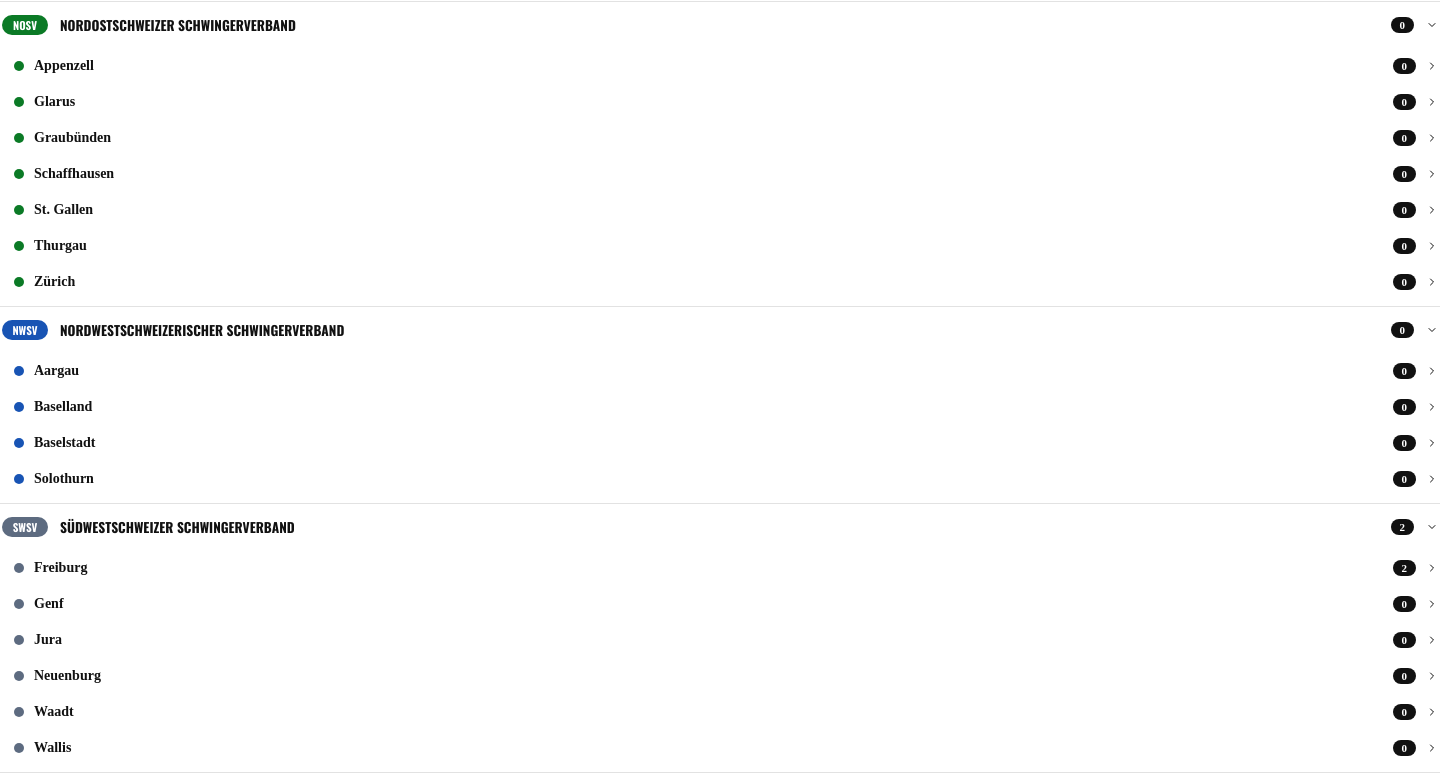
it: AssociationGroups › closes a Teilverband on click
(page scrolled)
Click the button with test id "group-swsv".
click(25, 527)  # box [0, 504, 1439, 550]
(page scrolled)
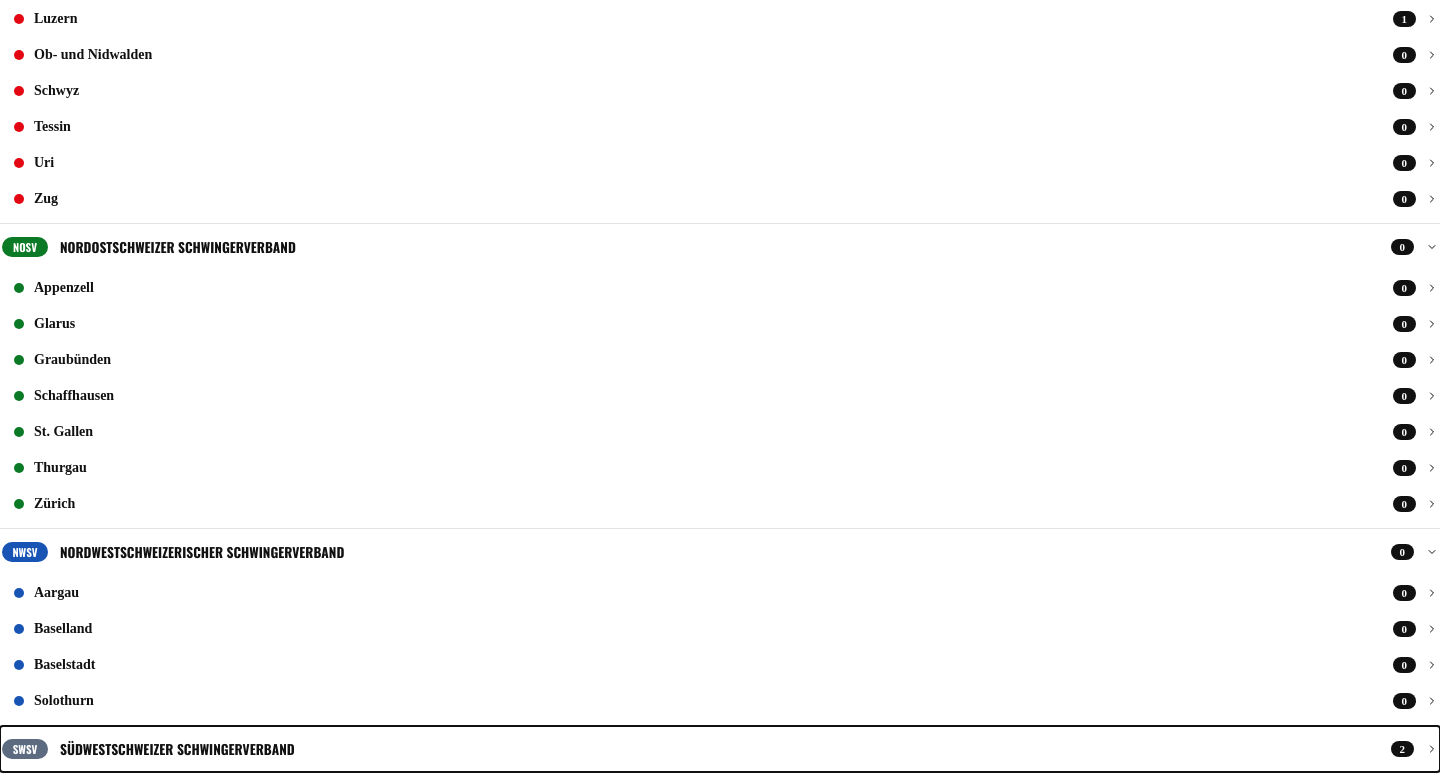
expect the button with test id "group-swsv" is collapsed: met, box [0, 726, 1439, 772]
expect the button with test id "group-freiburg" is gone: met
